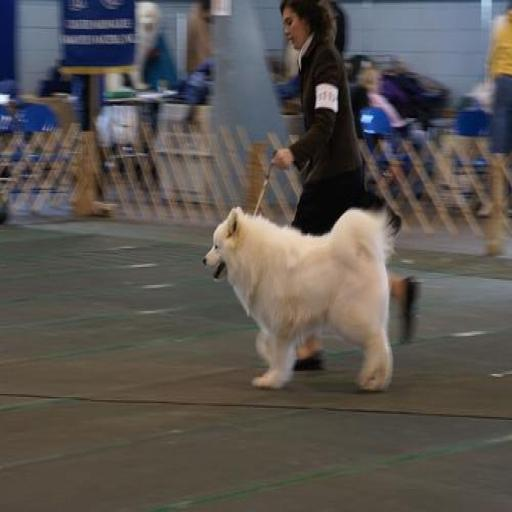dog_face: (203, 208, 241, 281)
